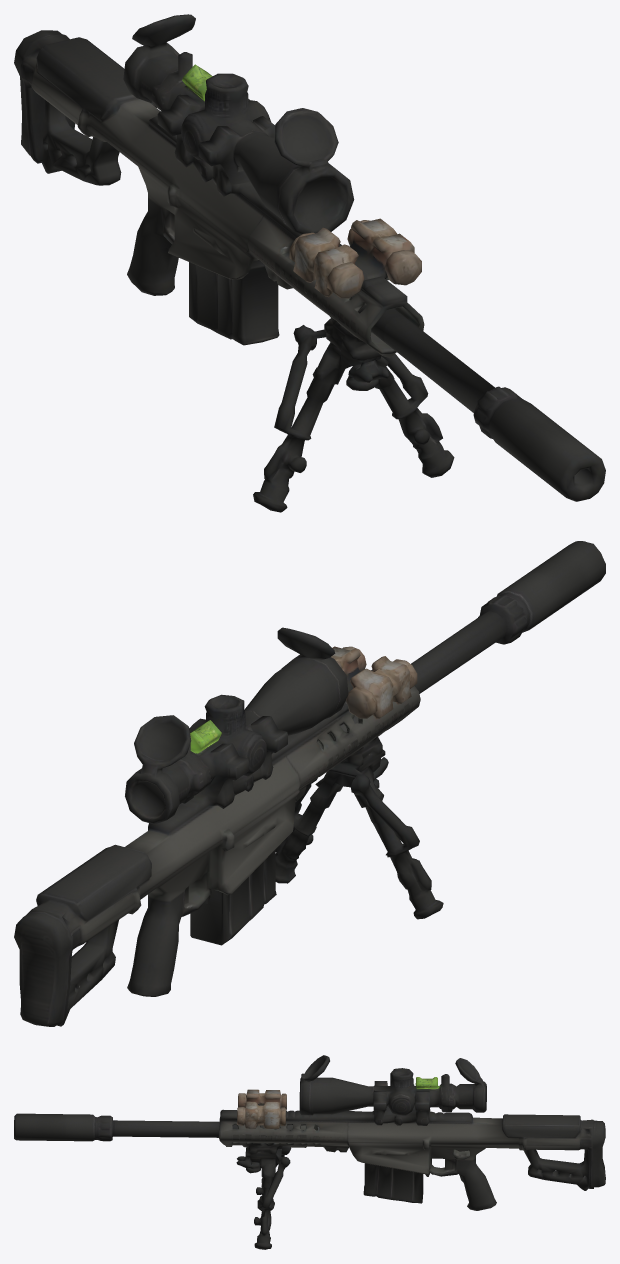
File: rifle.glb
3 views of the same model, one above another, from view 1: azimuth 30°, elevation 25°; view 2: azimuth 150°, elevation 25°; view 3: azimuth 270°, elevation 25° (orthographic). The views are drawn at different scales.
Visible parts, largest first — view 1: tripo_node_5b2118bf-38a2-45cf-9184-a01b875e7706; view 2: tripo_node_5b2118bf-38a2-45cf-9184-a01b875e7706; view 3: tripo_node_5b2118bf-38a2-45cf-9184-a01b875e7706.
Part boxes in pixels (x1=…): tripo_node_5b2118bf-38a2-45cf-9184-a01b875e7706: x1=14, y1=14, x2=605, y2=512; tripo_node_5b2118bf-38a2-45cf-9184-a01b875e7706: x1=14, y1=541, x2=605, y2=1026; tripo_node_5b2118bf-38a2-45cf-9184-a01b875e7706: x1=14, y1=1055, x2=605, y2=1249.
Size of the model in its own units: 0.1937 by 0.3229 by 1.
Materials: 1 (1 with a texture image).
